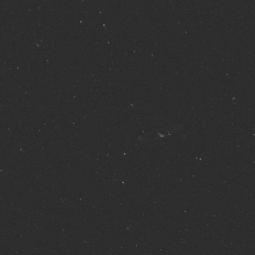proba_3_ocs: (127, 77, 185, 144)
